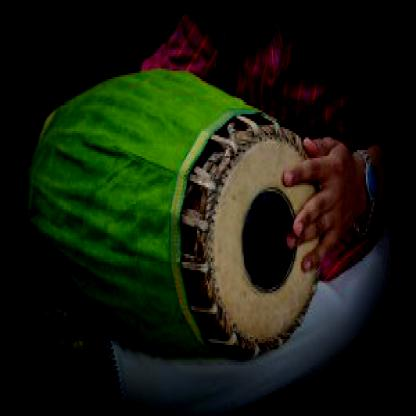Mridangam: (9, 47, 327, 367)
